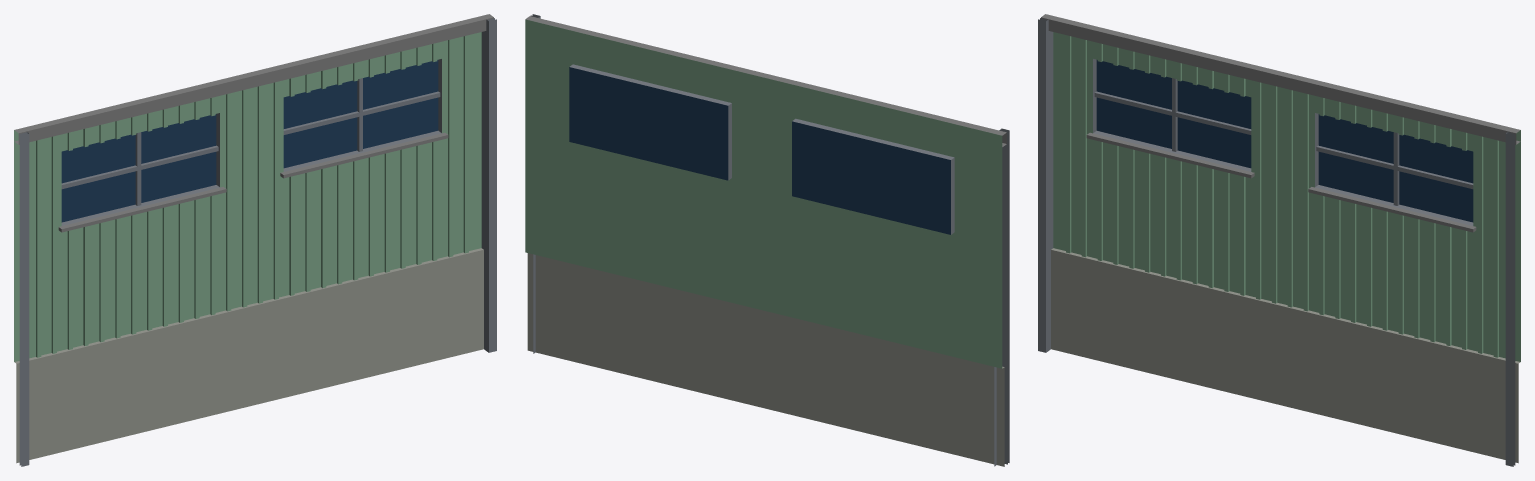
Rendered from base-w1_close.fbx.
3 views of the same model, side by side, from view 1: azimuth 30°, elevation 25°; view 2: azimuth 150°, elevation 25°; view 3: azimuth 330°, elevation 25° (orthographic).
Visible parts, largest first — view 1: a2013/500/base-w1_close; view 2: a2013/500/base-w1_close; view 3: a2013/500/base-w1_close.
Part boxes in pixels (left/top/right/bottom): a2013/500/base-w1_close: left=14, top=14, right=496, bottom=466; a2013/500/base-w1_close: left=525, top=14, right=1009, bottom=466; a2013/500/base-w1_close: left=1038, top=14, right=1520, bottom=466.
Size of the model in its own units: 6 by 4 by 0.24.
